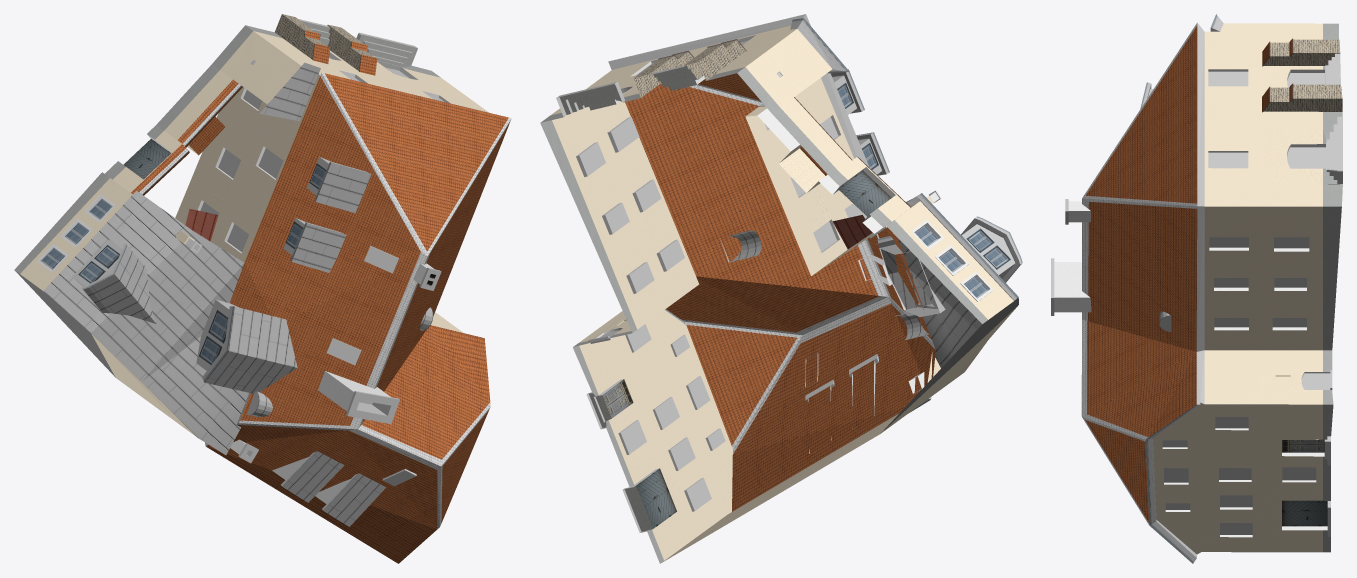
Rendered from Kohtu-5.obj.
The picture shows the model from 3 angles, left to right: view 1: azimuth 30°, elevation 25°; view 2: azimuth 150°, elevation 25°; view 3: azimuth 270°, elevation 25°; orthographic projection. The views are drawn at different scales.
Parts seen in each view (by area): view 1: Kohtu_5; view 2: Kohtu_5; view 3: Kohtu_5.
Part boxes in pixels (left/top/right/bottom): Kohtu_5: left=14, top=14, right=511, bottom=563; Kohtu_5: left=540, top=14, right=1022, bottom=563; Kohtu_5: left=1051, top=14, right=1342, bottom=563.
Size of the model in its own units: 28.16 by 32 by 16.6.
